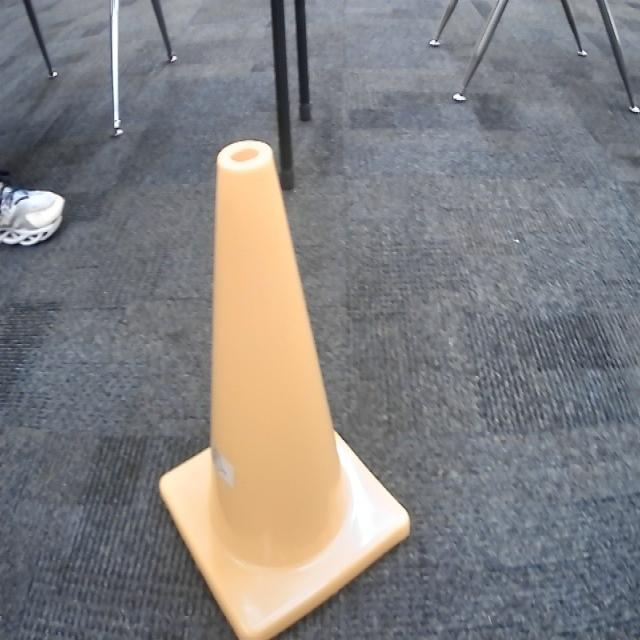cone: (157, 133, 413, 640)
